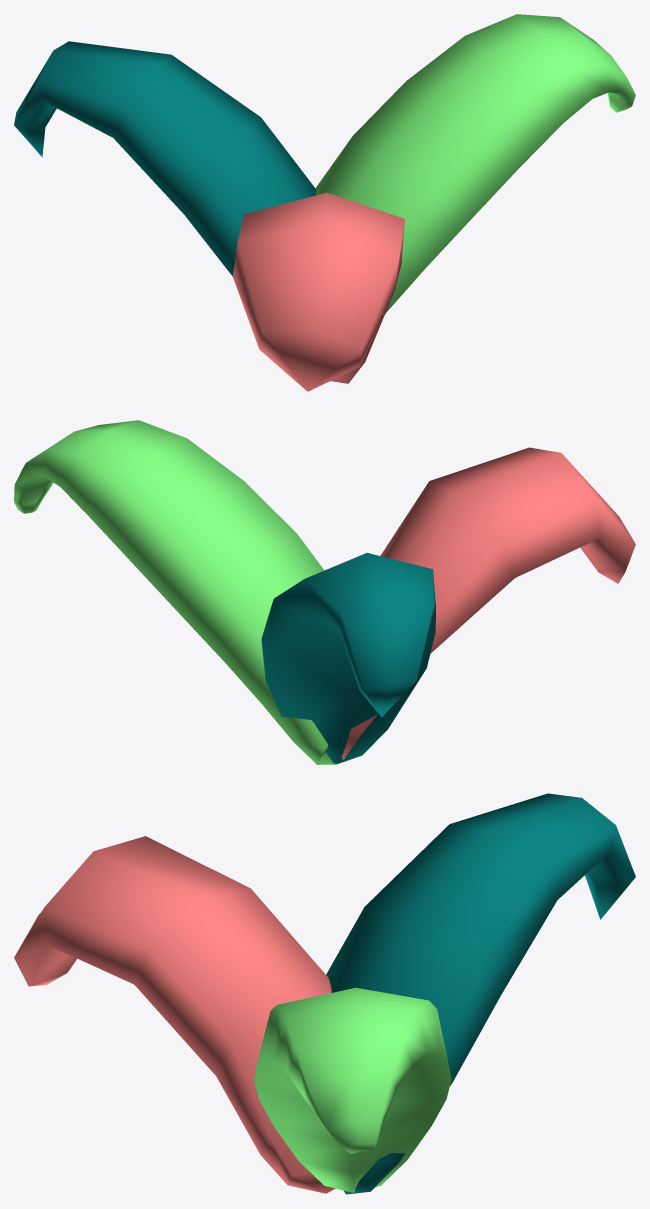
Rendered from Grass01.0.fbx.
3 views of the same model, one above another, from view 1: azimuth 30°, elevation 25°; view 2: azimuth 150°, elevation 25°; view 3: azimuth 270°, elevation 25° (orthographic). The views are drawn at different scales.
Parts seen in each view (by area): view 1: Low_Grass010; view 2: Low_Grass010; view 3: Low_Grass010.
Part boxes in pixels (x1,y1,x2,y2): Low_Grass010: [14, 14, 635, 391]; Low_Grass010: [14, 420, 635, 764]; Low_Grass010: [14, 793, 635, 1194].
Bounding box in the file's own units: 554 × 297 × 537.
